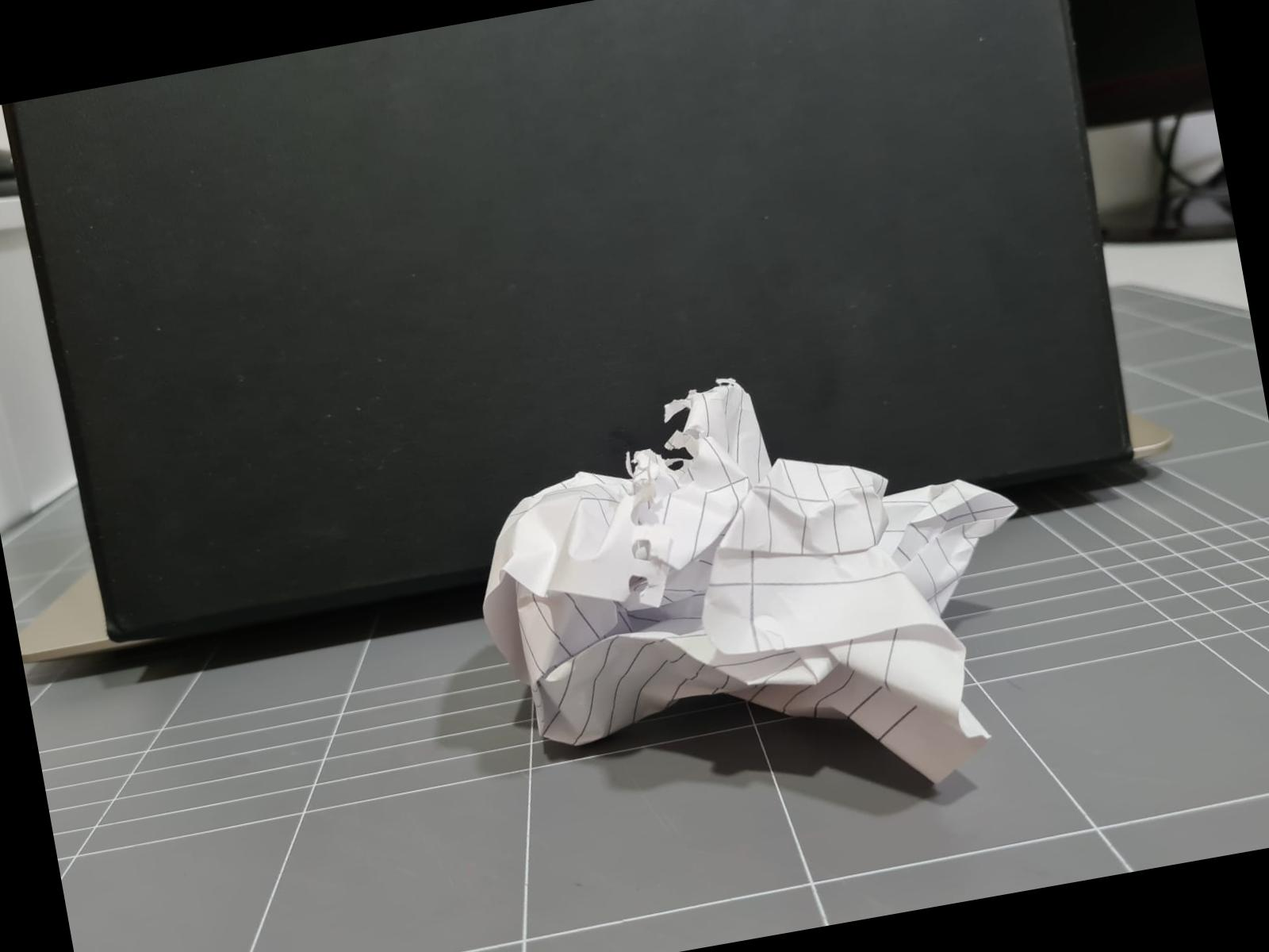Kertas: (484, 381, 1015, 780)
